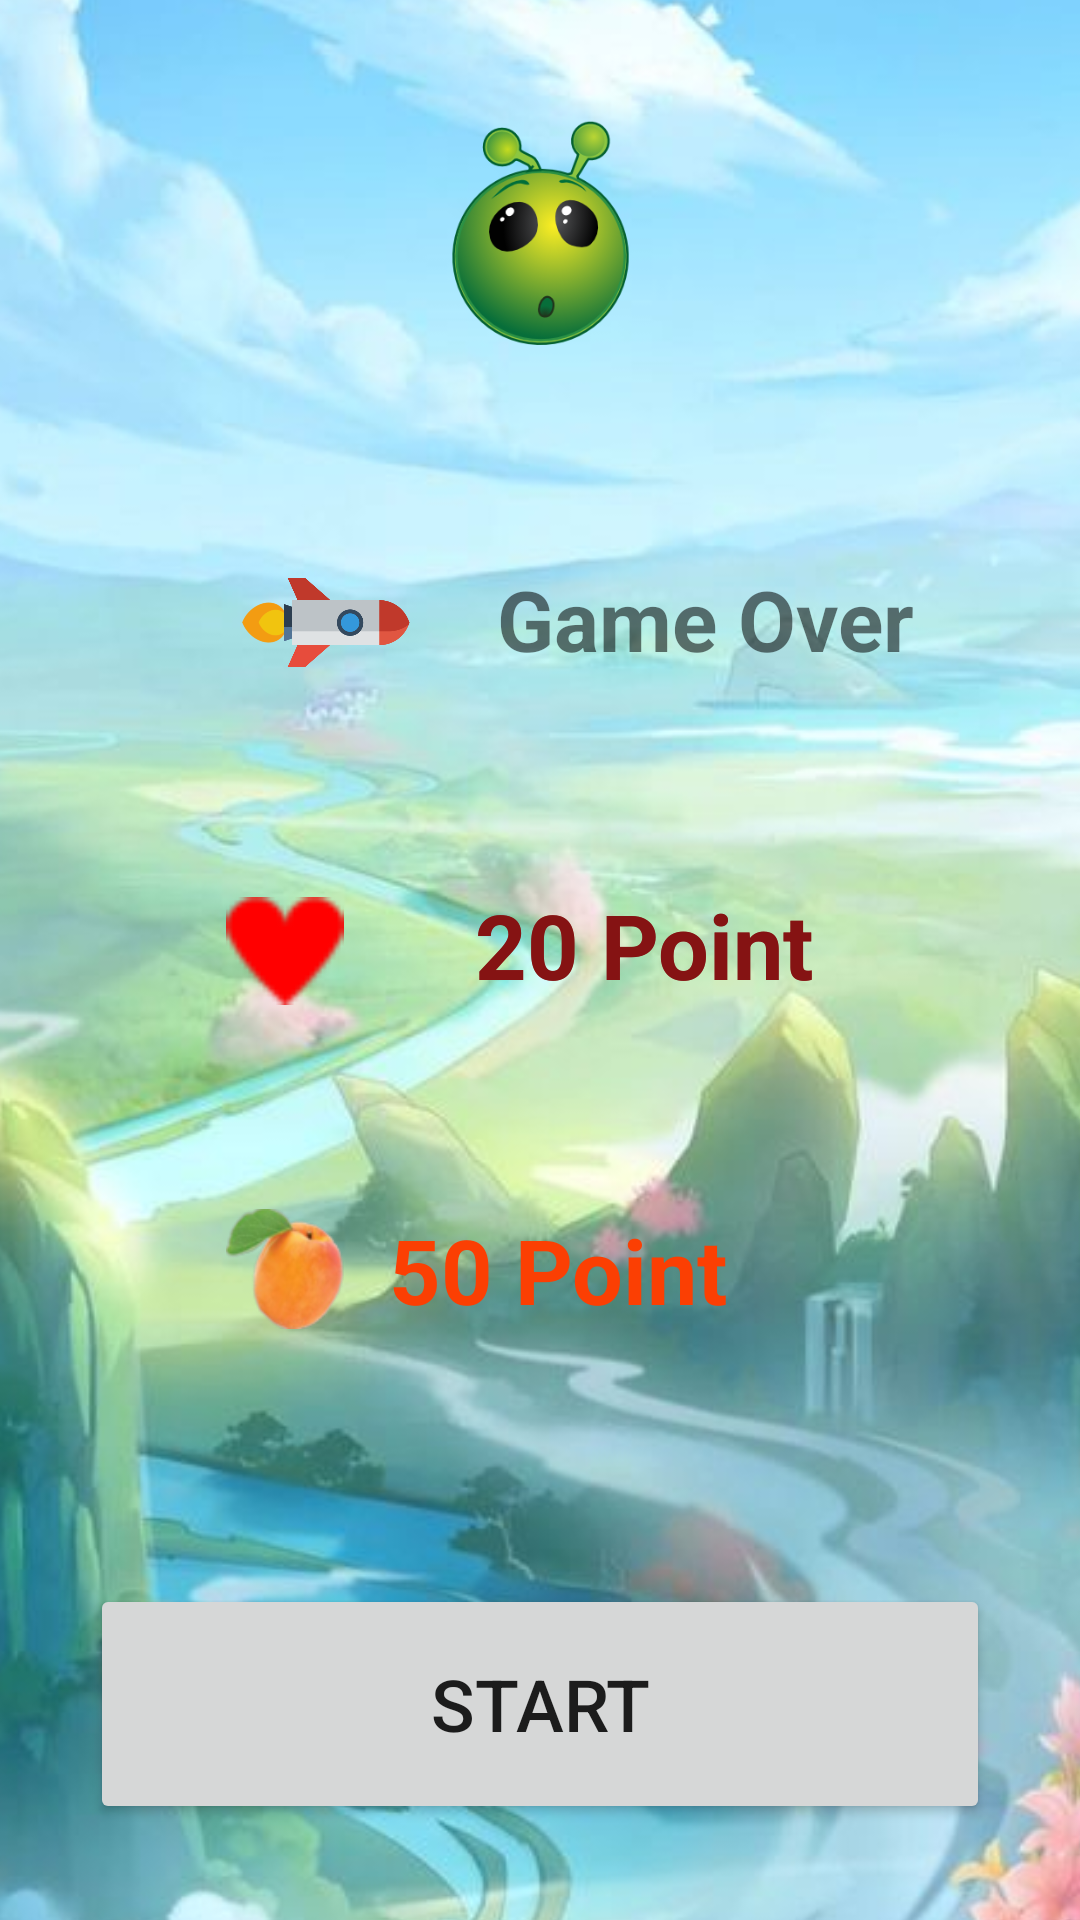

Locate icon controls on the screen. Image size 1080w x 1920h, boxes as Rect(x1, y1, x2, y2).
life: Rect(225, 897, 345, 1005)
